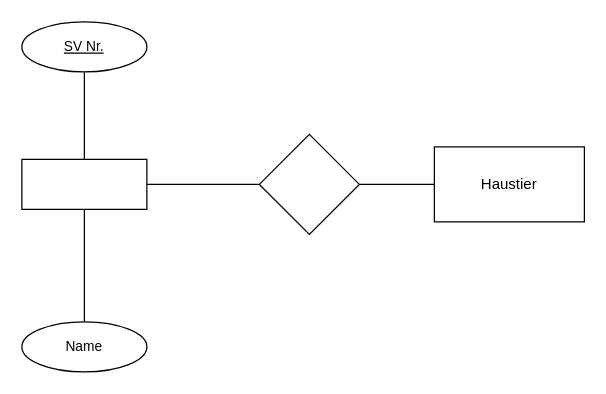
Image size: 606x394. Some labels were removed from this diagram. The shapes that lost their labels are listed below. From the top down, each one's centre as x and y in pixels, then its label:
At point 84,183: "Person".
At point 308,183: "hat".
